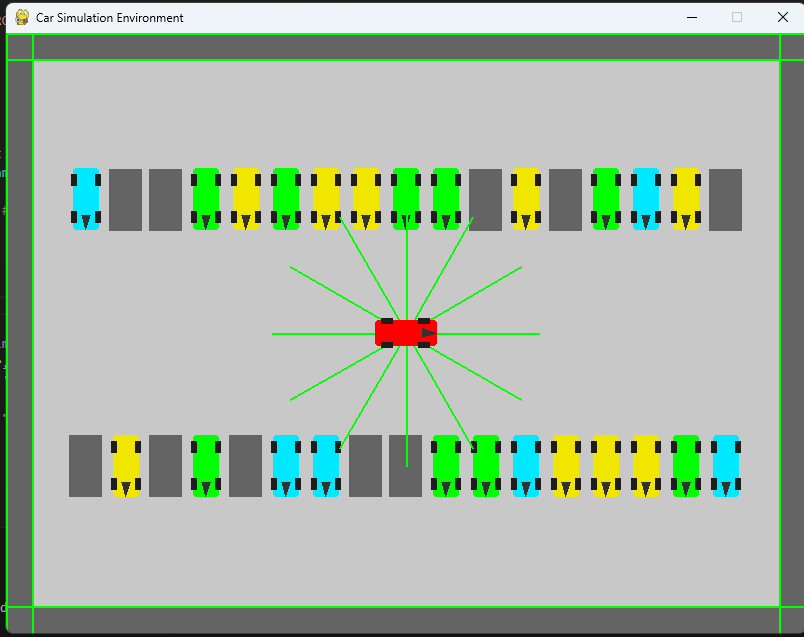ControlledCar: (370, 315, 443, 356)
ParkedCar: (267, 162, 308, 235), (63, 165, 104, 234), (587, 165, 627, 235), (428, 163, 465, 235), (589, 429, 625, 503), (546, 433, 585, 501), (189, 164, 225, 237), (705, 431, 744, 498), (627, 430, 665, 498), (349, 163, 384, 236), (469, 430, 503, 503), (228, 163, 263, 233), (630, 167, 664, 239), (506, 435, 543, 501), (390, 163, 424, 233), (110, 429, 144, 498), (669, 430, 703, 498), (430, 431, 463, 500), (666, 166, 701, 231), (509, 166, 542, 234), (312, 166, 343, 237), (307, 432, 340, 498), (268, 435, 302, 499), (187, 435, 221, 498)
ParkingSpot: (62, 426, 107, 504), (706, 160, 749, 240), (145, 160, 186, 235), (387, 427, 426, 505), (227, 426, 266, 503), (547, 162, 586, 238), (463, 163, 503, 236), (346, 431, 386, 503), (147, 431, 184, 502), (107, 166, 143, 237)
